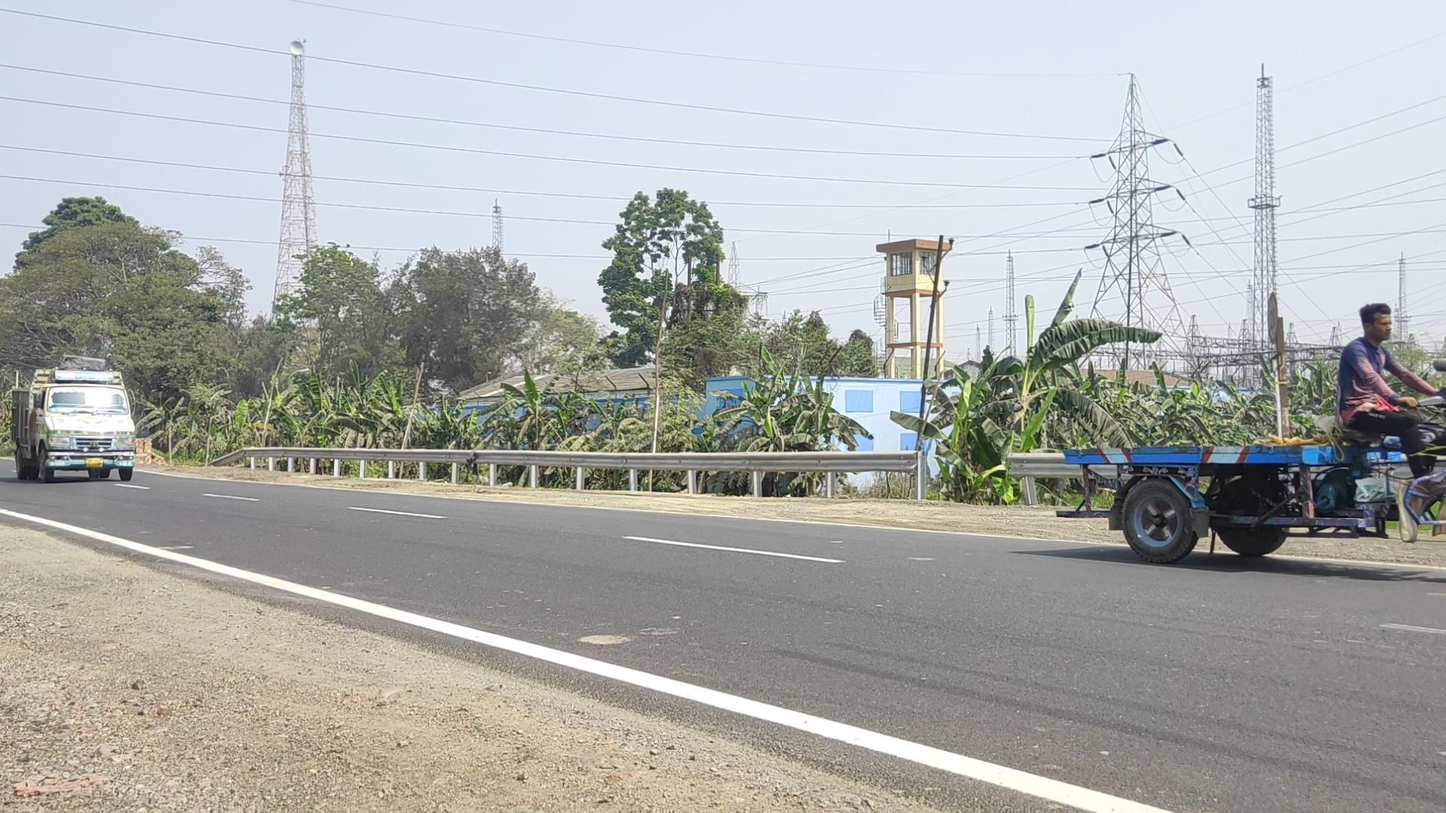truck: (11, 364, 136, 483)
